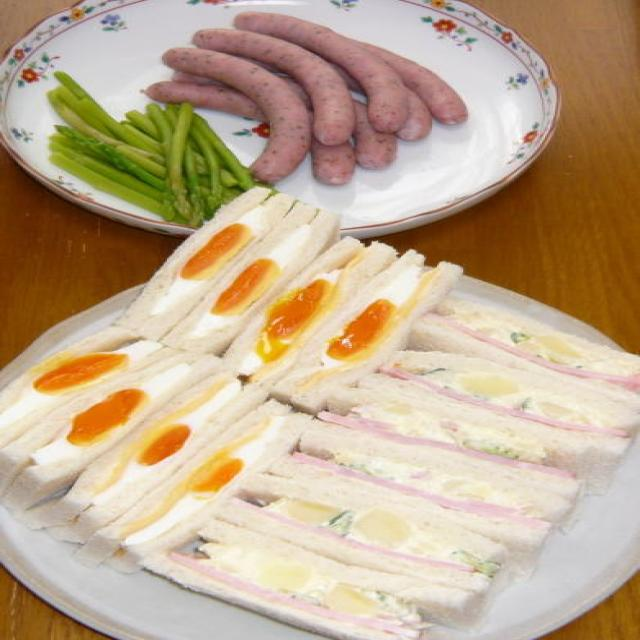三明治: (0, 203, 640, 640)
